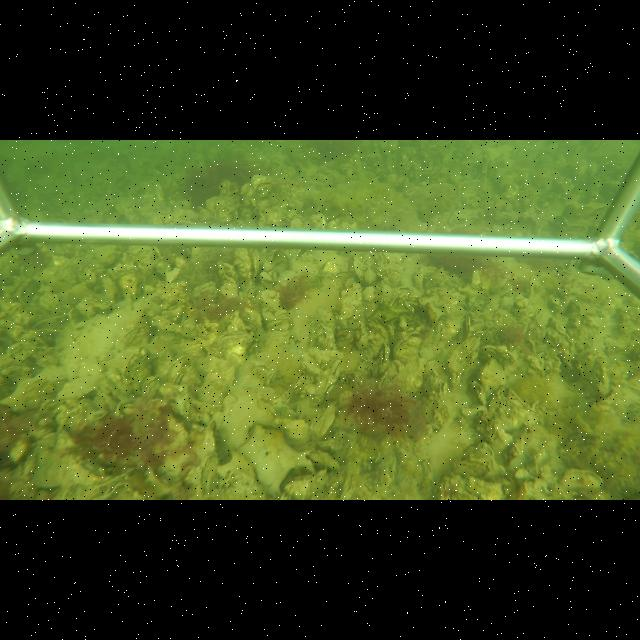Oyster-Closed: (195, 354, 236, 406), (446, 335, 482, 393), (119, 344, 150, 394), (282, 469, 330, 499), (391, 357, 426, 396), (477, 357, 507, 400), (318, 358, 342, 400), (216, 259, 242, 295), (163, 352, 190, 384), (352, 254, 366, 285)
Oyster-Open: (233, 245, 260, 282), (397, 331, 423, 347), (378, 346, 392, 375)
